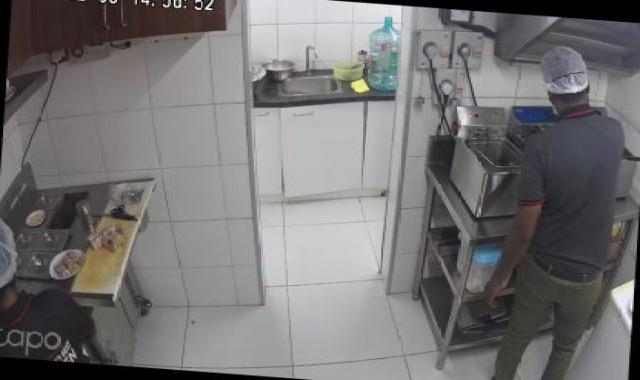hairnet: (531, 43, 611, 102)
